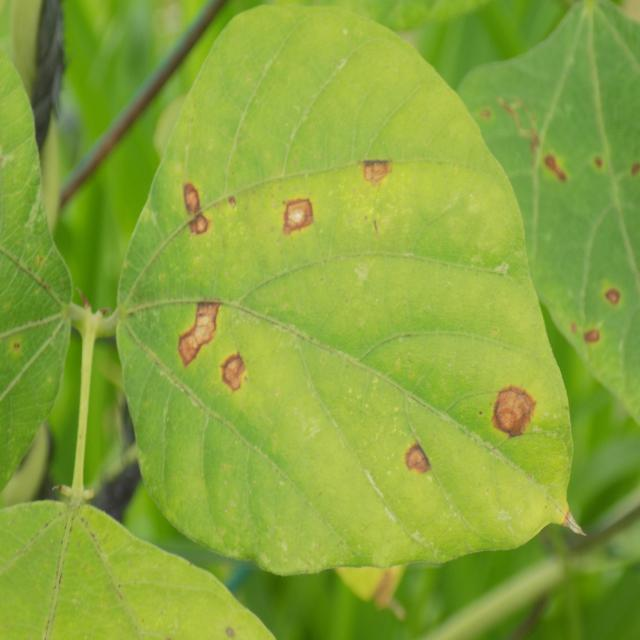Dolicos bean_cercospora leaf spot: (109, 0, 576, 568)
